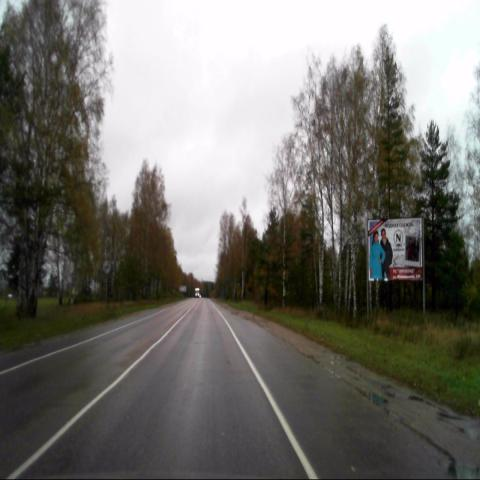3_21: (102, 259, 111, 274)
